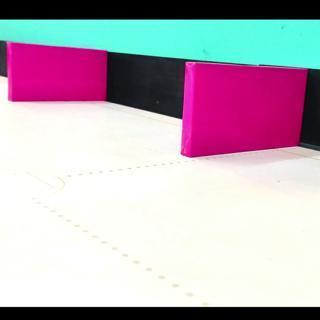xparking: (191, 64, 308, 157), (7, 44, 107, 101)
